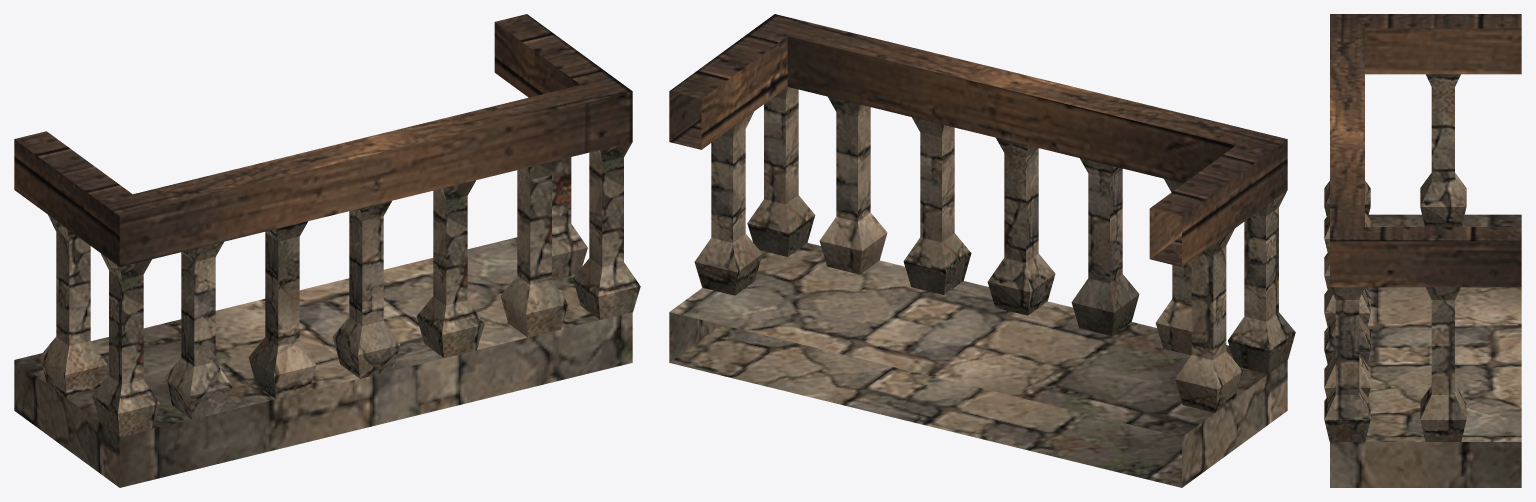
The model's file is balcony_2.fbx.
3 renders of one model, left to right at view 1: azimuth 30°, elevation 25°; view 2: azimuth 150°, elevation 25°; view 3: azimuth 270°, elevation 25°, orthographic. The views are drawn at different scales.
Visible parts, largest first — view 1: balcony_2; view 2: balcony_2; view 3: balcony_2.
Boxes of the visible parts, x1,y1,x2,y2 form: balcony_2: (14,14,640,487); balcony_2: (669,14,1295,487); balcony_2: (1324,14,1521,487).
Bounding box in the file's own units: 2.08 × 1.03 × 0.7473.
